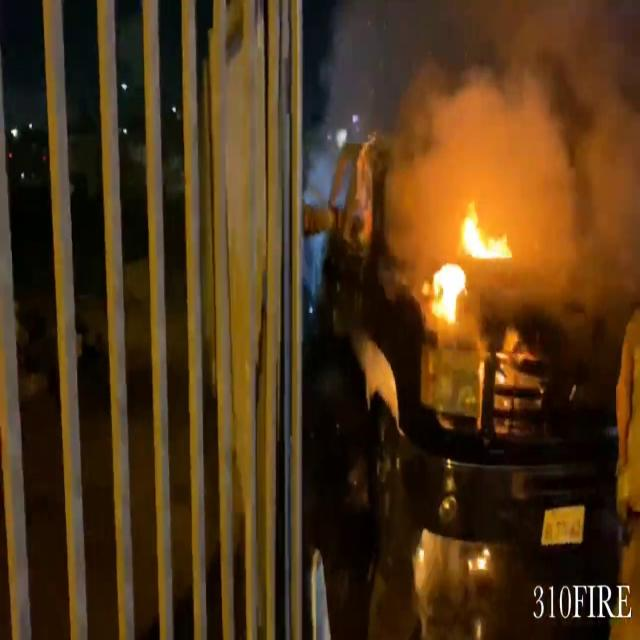Fire: (422, 197, 514, 327)
Smoke: (318, 1, 640, 285)
